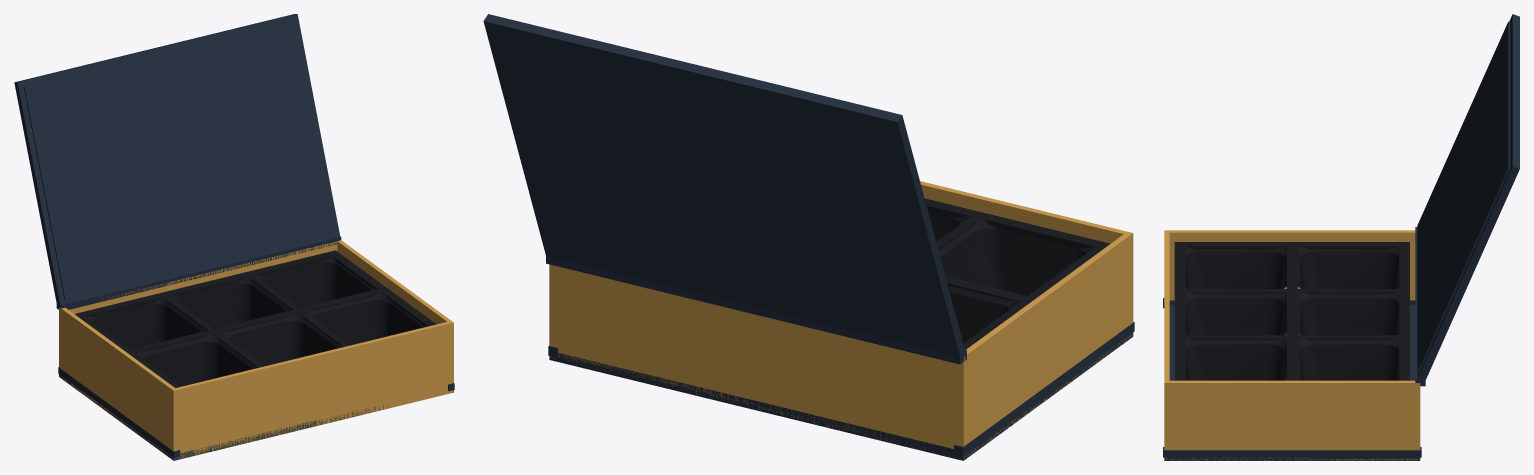
The model's file is empty-six-piece-box.glb.
The picture shows the model from 3 angles, left to right: view 1: azimuth 30°, elevation 25°; view 2: azimuth 150°, elevation 25°; view 3: azimuth 270°, elevation 25°; orthographic projection. The views are drawn at different scales.
Parts seen in each view (by area): view 1: Lid inner panel, Gold end wall (×2), Gold side wall (×2), Open navy lid, Insert outer rim (×3), Empty well row 2 column 2, Empty well row 2 column 1, Empty well row 2 column 3, Empty well row 1 column 2, Empty well row 1 column 1, Empty well row 1 column 3, Hinge (+4 smaller); view 2: Open navy lid, Gold end wall (×2), Gold side wall, Empty well row 2 column 1, Box base, Hinge, Insert outer rim (×2), Empty well row 1 column 1, Navy side foot, Row divider; view 3: Gold side wall (×2), Lid inner panel, Insert outer rim (×3), Empty well row 1 column 2, Empty well row 2 column 2, Empty well row 1 column 3, Empty well row 2 column 3, Empty well row 1 column 1, Empty well row 2 column 1, Open navy lid, Column divider (×2), Navy side foot (+4 smaller).
Part boxes in pixels (box(x1,y1,x2,y2)): Lid inner panel: box(24, 21, 335, 299); Gold end wall (×2): box(69, 241, 449, 459); Gold side wall (×2): box(59, 240, 453, 459); Open navy lid: box(14, 14, 339, 306); Insert outer rim (×3): box(74, 250, 436, 387); Empty well row 2 column 2: box(222, 314, 342, 365); Empty well row 2 column 1: box(137, 335, 257, 386); Empty well row 2 column 3: box(307, 293, 427, 344); Empty well row 1 column 2: box(170, 276, 290, 328); Empty well row 1 column 1: box(85, 297, 205, 349); Empty well row 1 column 3: box(255, 256, 375, 307); Hinge: box(56, 236, 341, 309); Open navy lid: box(483, 14, 965, 360); Gold end wall (×2): box(555, 181, 1126, 457); Gold side wall: box(957, 231, 1133, 460); Empty well row 2 column 1: box(938, 219, 1094, 295); Box base: box(549, 333, 1133, 460); Hinge: box(546, 256, 966, 364); Insert outer rim (×2): box(924, 198, 1110, 349); Empty well row 1 column 1: box(948, 285, 1017, 343); Navy side foot: box(954, 322, 1134, 456); Row divider: box(945, 276, 1027, 302); Gold side wall (×2): box(1164, 230, 1420, 460); Lid inner panel: box(1417, 21, 1510, 372); Insert outer rim (×3): box(1174, 242, 1409, 380); Empty well row 1 column 2: box(1297, 292, 1399, 335); Empty well row 2 column 2: box(1185, 292, 1286, 335); Empty well row 1 column 3: box(1297, 338, 1399, 380); Empty well row 2 column 3: box(1185, 338, 1286, 380); Empty well row 1 column 1: box(1297, 246, 1399, 288); Empty well row 2 column 1: box(1185, 246, 1286, 288); Open navy lid: box(1417, 14, 1519, 383); Column divider (×2): box(1180, 289, 1404, 340); Navy side foot: box(1163, 447, 1421, 457).
Size of the model in its own units: 0.1382 by 0.1244 by 0.1366.
